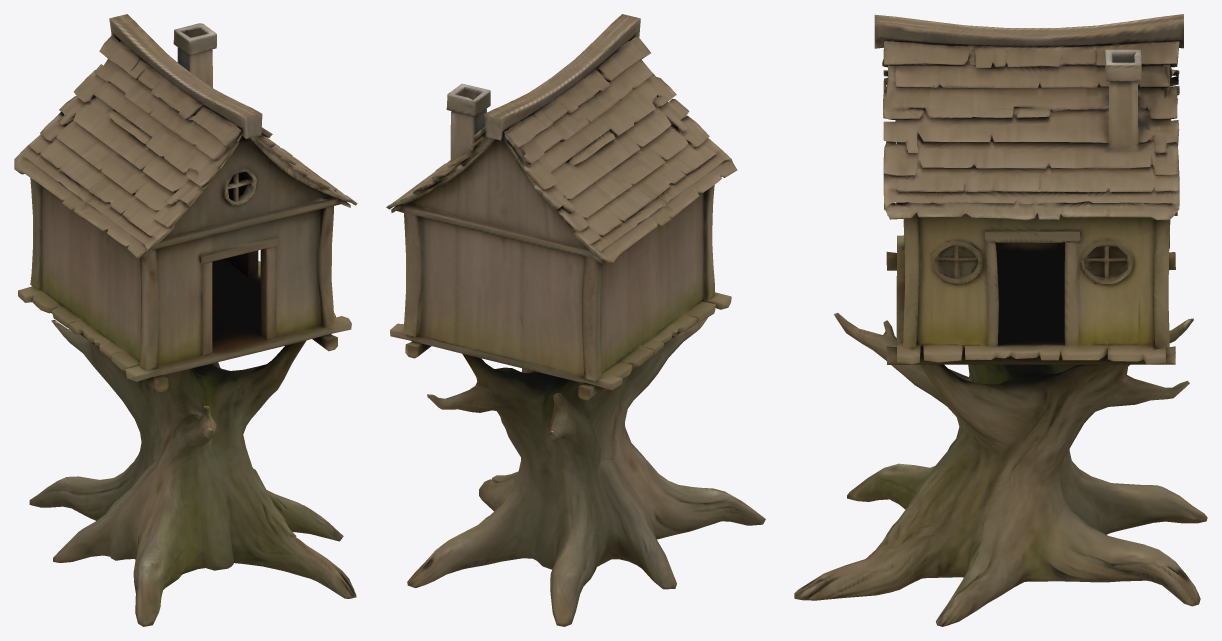
Rendered from base_basic_shaded.fbx.
The picture shows the model from 3 angles, left to right: view 1: azimuth 30°, elevation 25°; view 2: azimuth 150°, elevation 25°; view 3: azimuth 270°, elevation 25°; orthographic projection. The views are drawn at different scales.
Visible parts, largest first — view 1: model; view 2: model; view 3: model.
Boxes of the visible parts, left/top/right/bottom form: model: left=14, top=14, right=357, bottom=626; model: left=386, top=14, right=765, bottom=626; model: left=794, top=14, right=1207, bottom=626.
Size of the model in its own units: 89.16 by 168 by 116.
